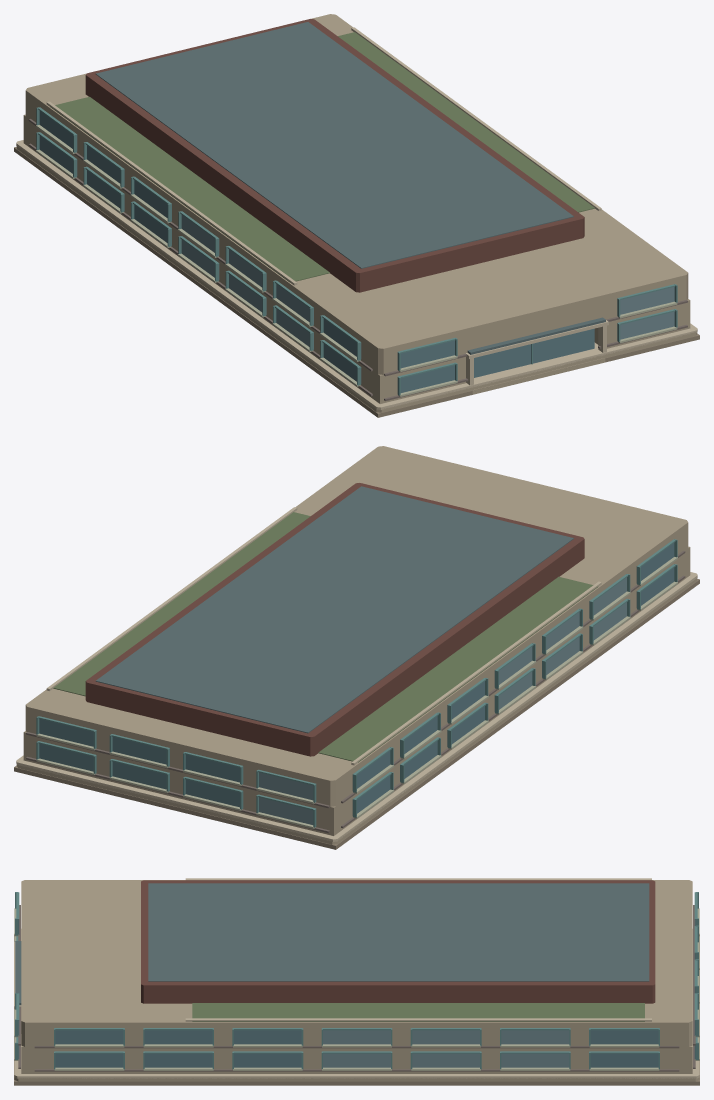
Rendered from library.glb.
The picture shows the model from 3 angles, top to bottom: view 1: azimuth 30°, elevation 25°; view 2: azimuth 150°, elevation 25°; view 3: azimuth 270°, elevation 25°; orthographic projection. The views are drawn at different scales.
Parts seen in each view (by area): view 1: form, glaze, relief, glowing; view 2: form, glaze, relief, glowing; view 3: form, glaze, relief, glowing.
Boxes of the visible parts, box(x1,y1,x2,y2) form: form: box(14, 14, 699, 417); glaze: box(39, 111, 674, 392); relief: box(36, 107, 677, 396); glowing: box(134, 180, 361, 383); form: box(14, 446, 699, 849); glaze: box(39, 543, 674, 824); relief: box(36, 539, 677, 828); glowing: box(185, 568, 674, 782); form: box(14, 878, 699, 1085); glaze: box(18, 920, 695, 1067); relief: box(14, 892, 699, 1070); glowing: box(234, 953, 695, 1067).
Bounding box in the file's own units: 24 × 6 × 47.
